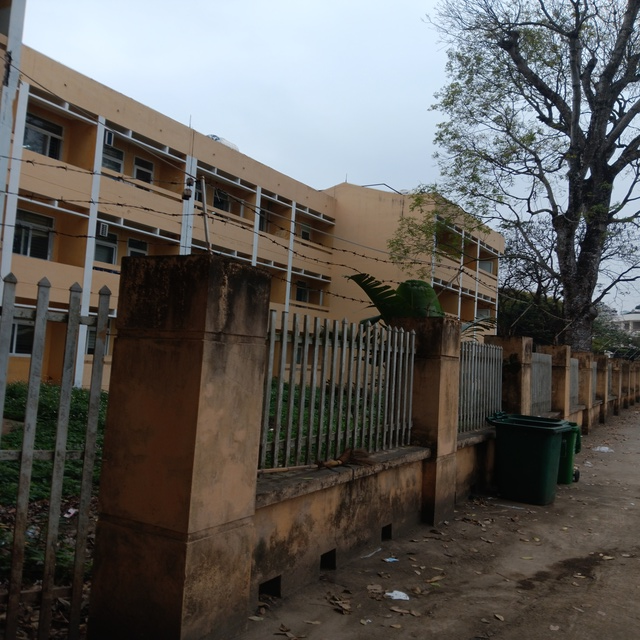thungrac: (501, 407, 558, 504), (552, 417, 578, 491)
